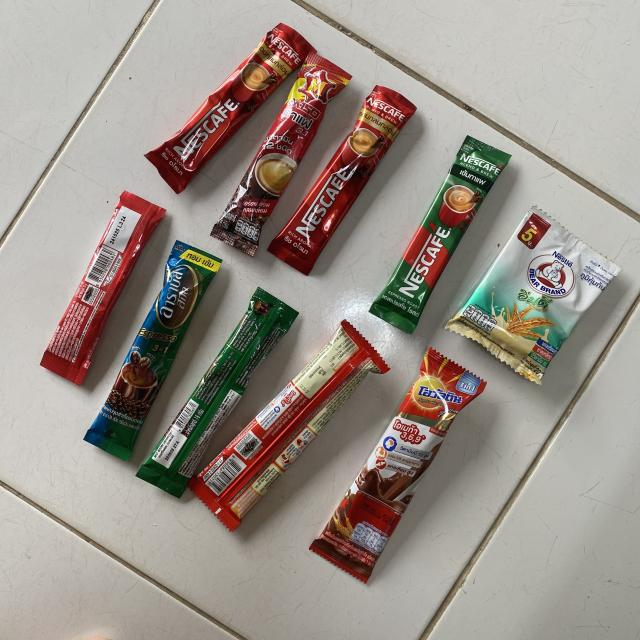plastik: (189, 320, 389, 531), (310, 349, 486, 582), (138, 288, 296, 498), (446, 206, 620, 384), (85, 240, 221, 460), (145, 24, 316, 194), (211, 54, 351, 255), (268, 85, 416, 275), (370, 136, 511, 334), (40, 191, 166, 385)
